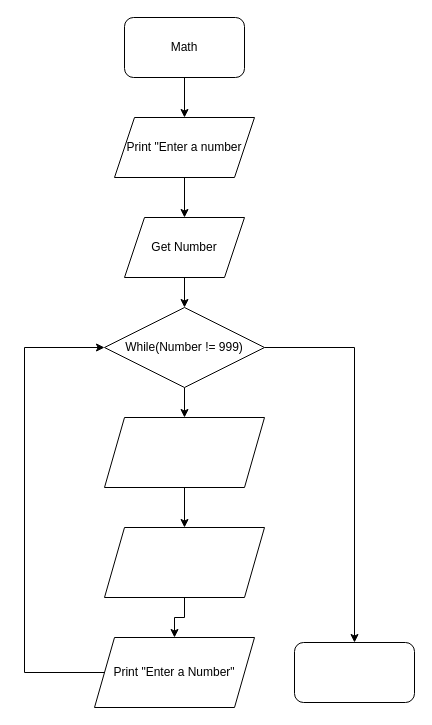
Some shapes in this 432 by 725 pixel diagram are drawn without their labels. The centre of each missing label's shape, as x and y in pixels:
"AnswerOne<-- Number^2 AnwerTwo <-- 1/number" goes at (x=184, y=452).
"END" goes at (x=354, y=672).
"Print AnswerOne Print AnswerTwo" goes at (x=184, y=562).
